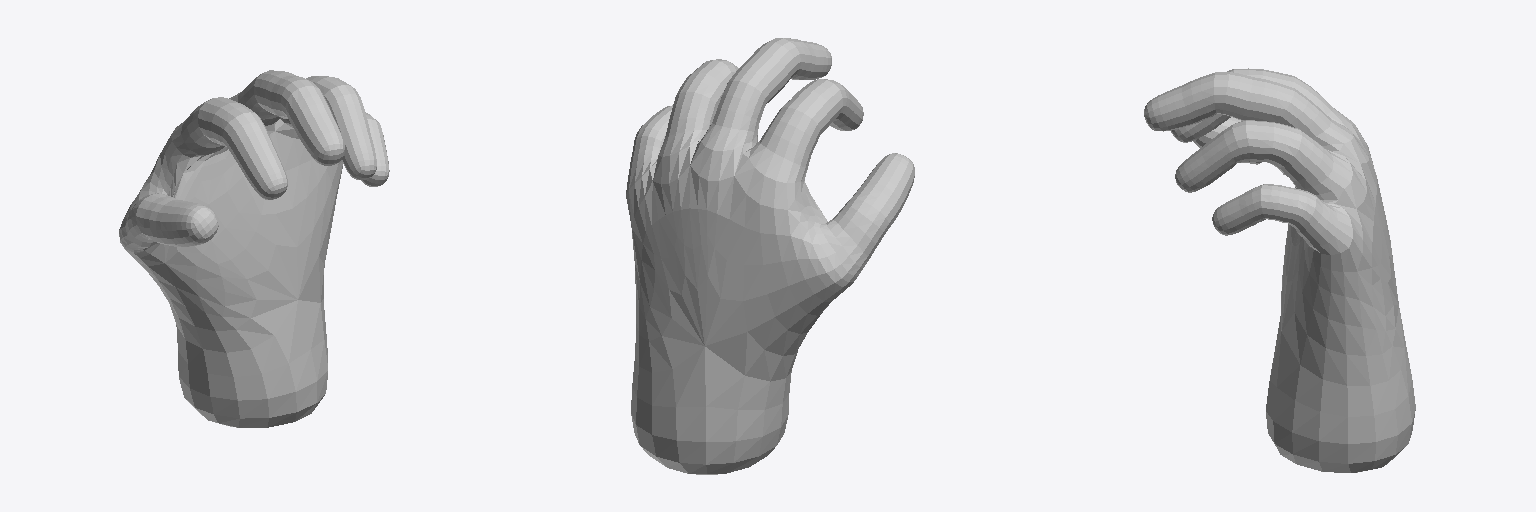
The model's file is handanimatsion36.obj.
The picture shows the model from 3 angles: view 1: azimuth 30°, elevation 25°; view 2: azimuth 150°, elevation 25°; view 3: azimuth 270°, elevation 25°; orthographic projection.
Visible parts, largest first — view 1: Cube; view 2: Cube; view 3: Cube.
Boxes of the visible parts, <box> form: Cube: <box>119,70,389,427</box>; Cube: <box>626,38,914,474</box>; Cube: <box>1144,68,1415,472</box>.
Bounding box in the file's own units: 3.26 × 4.94 × 3.19.